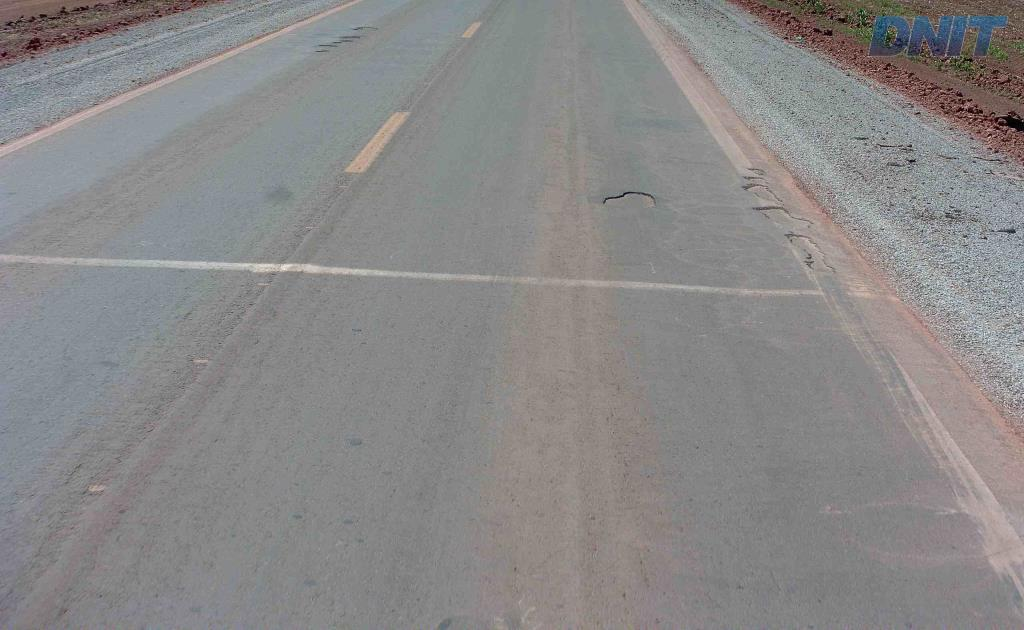pothole: (592, 188, 663, 213)
